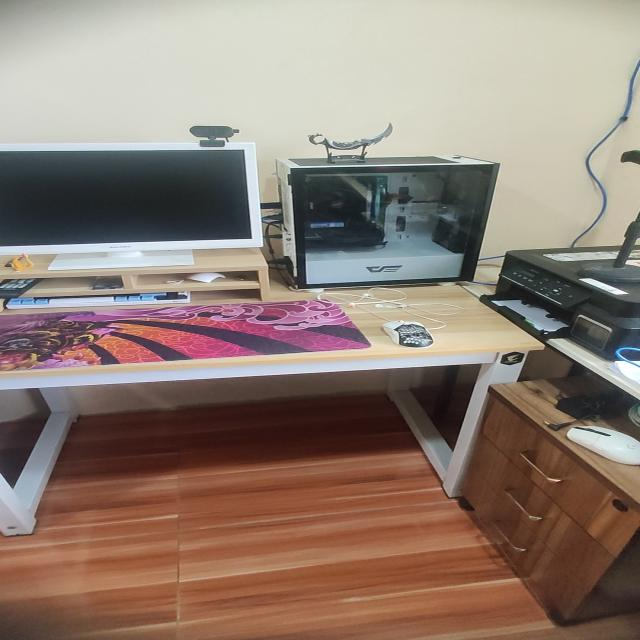table: (0, 282, 550, 545)
